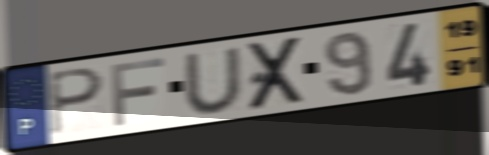4: (383, 19, 436, 90)
9: (320, 29, 375, 98)
F: (108, 55, 168, 129)
P: (46, 66, 107, 139)
U: (181, 44, 246, 116)
X: (246, 33, 309, 114)
